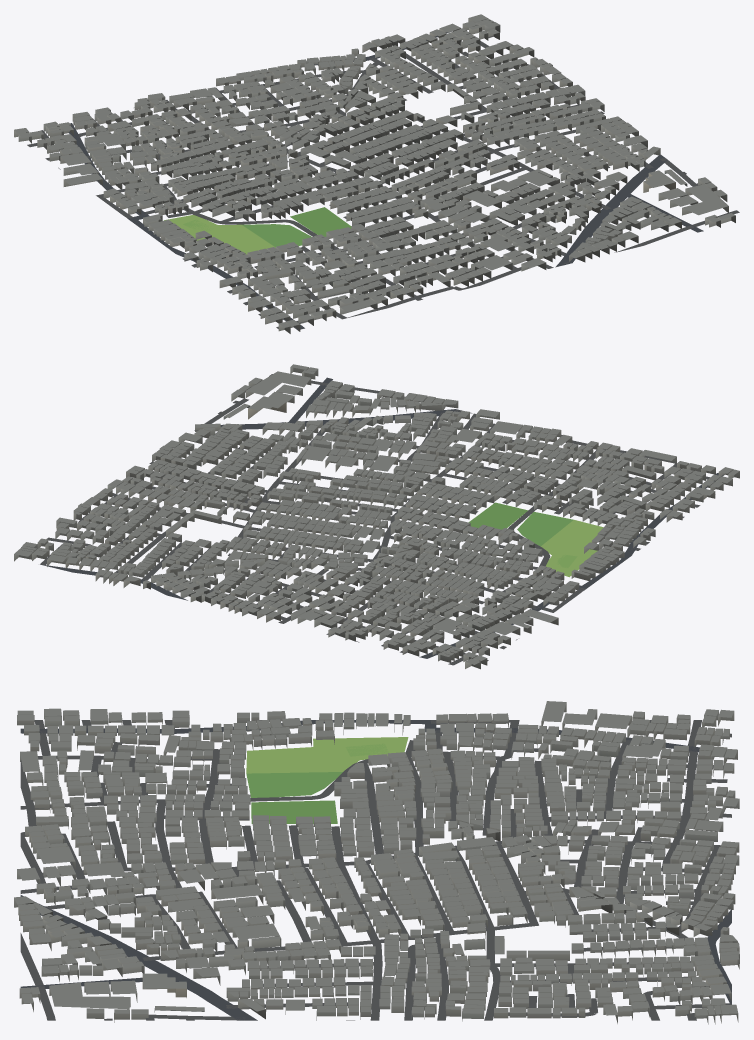
The picture shows the model from 3 angles, top to bottom: view 1: azimuth 30°, elevation 25°; view 2: azimuth 150°, elevation 25°; view 3: azimuth 270°, elevation 25°; orthographic projection. The views are drawn at different scales.
Parts seen in each view (by area): view 1: building, ground; view 2: building, ground; view 3: building, ground.
Part boxes in pixels (<box>): building: <box>14,14,735,333</box>; ground: <box>27,31,739,329</box>; building: <box>14,364,739,669</box>; ground: <box>40,374,724,665</box>; building: <box>14,701,739,1024</box>; ground: <box>20,720,731,1020</box>.
Bounding box in the file's own units: 523 × 12 × 510.
